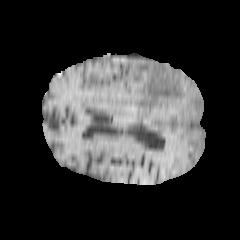glioma: (122, 63, 185, 122)
